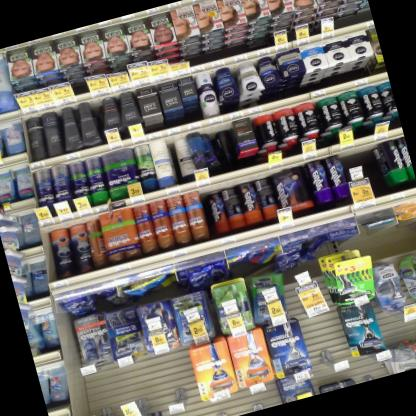empty_space: (360, 207, 406, 261), (340, 143, 383, 182)
